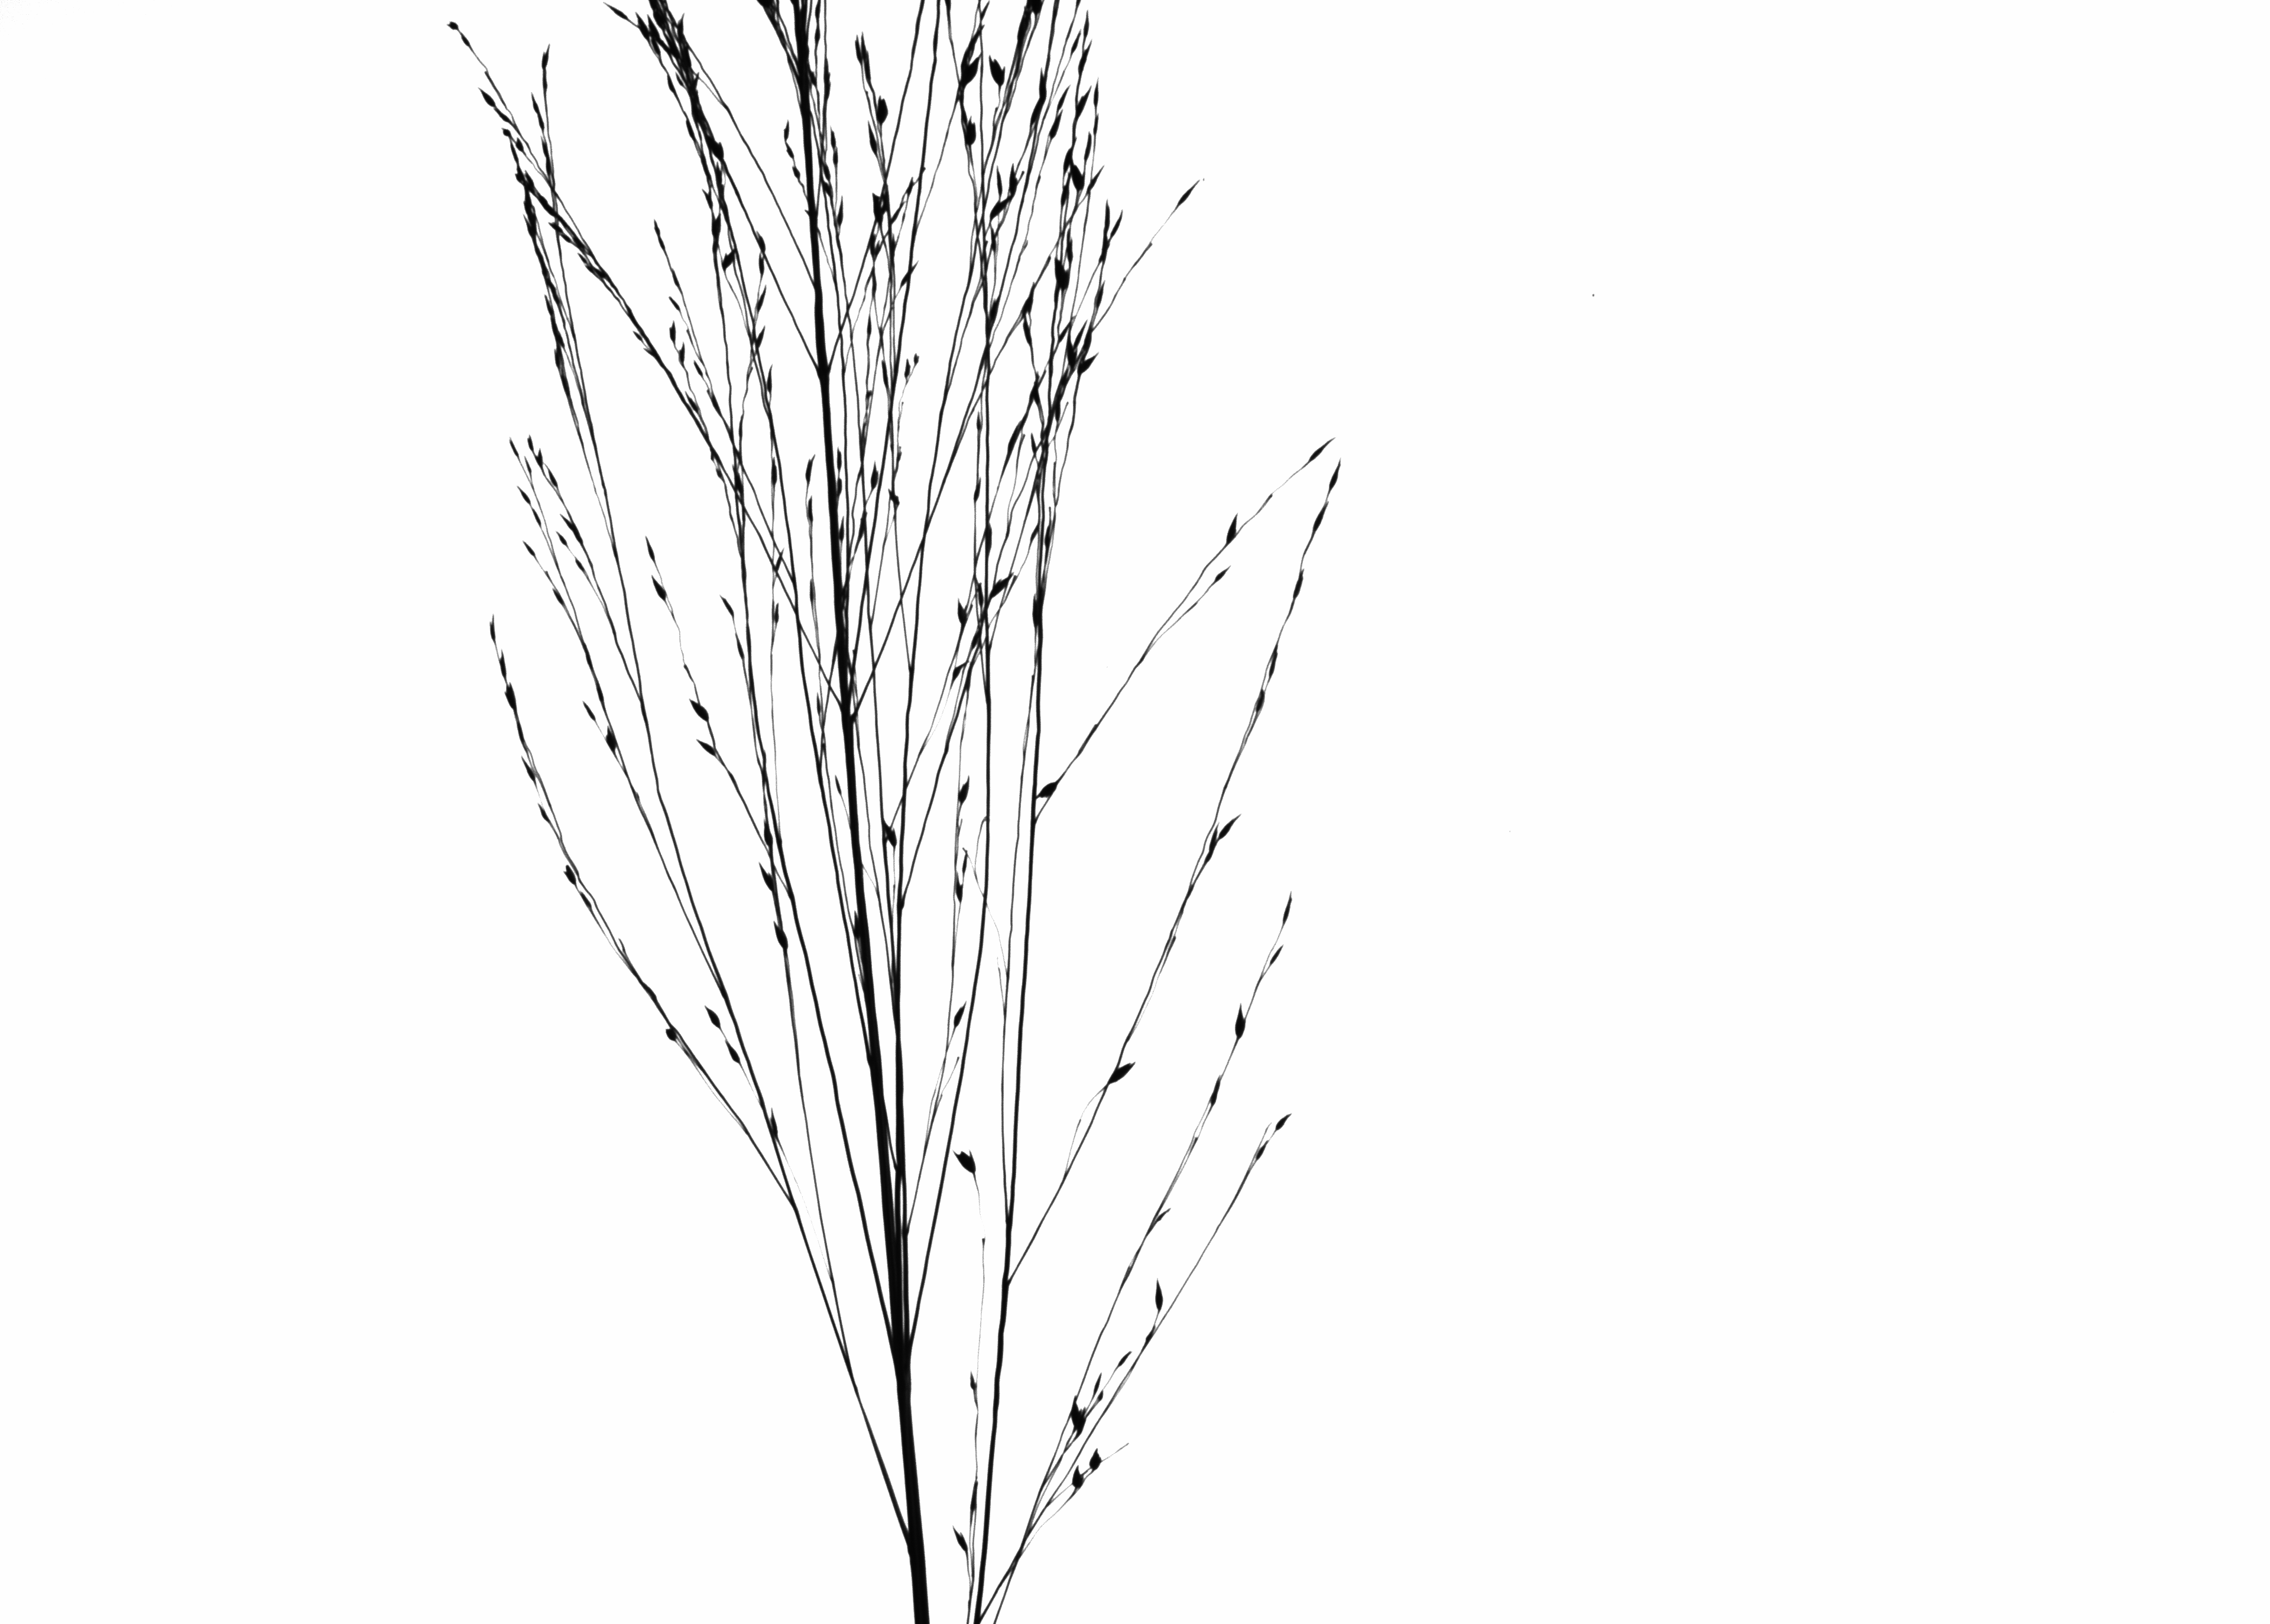seed: (1097, 1049, 1143, 1098), (1301, 432, 1336, 471), (946, 1142, 985, 1178), (1146, 1274, 1173, 1325), (948, 1520, 978, 1564), (1226, 997, 1254, 1042), (1171, 178, 1203, 216), (1305, 499, 1336, 538), (1034, 773, 1066, 810), (753, 856, 781, 896), (1220, 810, 1247, 852), (768, 916, 795, 956), (494, 682, 524, 717), (1064, 1392, 1087, 1438), (958, 1473, 983, 1515), (545, 216, 577, 248), (513, 754, 543, 787), (990, 568, 1016, 605), (877, 814, 904, 851), (1278, 884, 1298, 933), (680, 696, 716, 722), (962, 49, 985, 90), (1264, 642, 1287, 682), (645, 568, 670, 605), (983, 292, 1000, 343), (1222, 510, 1245, 548), (721, 1039, 747, 1072), (951, 997, 972, 1037), (1201, 824, 1220, 868), (577, 698, 603, 729), (978, 511, 997, 554), (758, 812, 779, 851), (693, 736, 728, 759), (531, 800, 559, 828), (700, 1002, 726, 1032), (1289, 566, 1308, 606), (1087, 163, 1108, 200), (986, 51, 1008, 88), (899, 258, 921, 292), (726, 631, 749, 664), (494, 647, 517, 680), (1115, 1343, 1138, 1376), (1076, 39, 1095, 77), (957, 772, 976, 810), (800, 494, 821, 529), (768, 548, 789, 584), (763, 1107, 784, 1142), (1326, 460, 1347, 496), (640, 531, 659, 568), (1250, 685, 1271, 719), (1076, 83, 1092, 127), (1266, 940, 1289, 970), (728, 462, 747, 497), (855, 506, 872, 545), (1029, 93, 1048, 128), (863, 118, 881, 156), (874, 90, 891, 128), (761, 360, 779, 399), (484, 610, 503, 645), (600, 2, 631, 23), (1250, 1135, 1271, 1167), (1062, 137, 1080, 174), (869, 188, 886, 225), (751, 322, 768, 359), (559, 508, 584, 534), (1206, 1070, 1224, 1107), (967, 473, 986, 506), (751, 281, 770, 315), (946, 868, 965, 902), (517, 213, 540, 241), (601, 726, 622, 756), (575, 888, 596, 917), (1066, 1462, 1087, 1492), (1087, 1364, 1104, 1399), (865, 462, 884, 494), (682, 387, 702, 418), (951, 598, 971, 629), (519, 167, 542, 193), (1078, 352, 1101, 378), (559, 861, 582, 888), (1210, 564, 1236, 587), (513, 482, 535, 510), (848, 909, 865, 942), (1048, 109, 1066, 142), (964, 111, 978, 151), (990, 195, 1013, 220), (1273, 1109, 1296, 1134), (949, 659, 971, 685), (1073, 318, 1090, 350), (1051, 257, 1069, 288), (1055, 83, 1073, 114), (633, 11, 649, 46), (571, 555, 593, 582), (1027, 429, 1043, 462), (1059, 315, 1076, 344), (800, 452, 818, 482), (505, 429, 522, 459), (717, 592, 738, 617), (886, 485, 906, 511), (1110, 207, 1125, 239), (1062, 332, 1076, 367), (538, 40, 556, 69), (477, 86, 498, 109), (661, 1025, 684, 1046), (520, 538, 540, 562), (765, 455, 781, 485), (647, 14, 663, 44), (992, 165, 1006, 199), (545, 466, 563, 492), (849, 30, 862, 67), (1094, 279, 1108, 311), (1069, 163, 1085, 192), (811, 691, 825, 722), (663, 292, 684, 313), (1027, 591, 1039, 626), (835, 193, 848, 228), (675, 9, 688, 44), (828, 772, 846, 796), (550, 585, 568, 610), (526, 424, 538, 459), (964, 1369, 981, 1394), (1022, 316, 1036, 346), (805, 576, 819, 606), (768, 601, 782, 631), (665, 316, 679, 346), (723, 248, 738, 274), (1090, 1441, 1102, 1475), (647, 218, 666, 239), (805, 67, 823, 90), (753, 227, 770, 250), (698, 186, 716, 209), (833, 517, 848, 545), (962, 847, 976, 875), (682, 118, 698, 142), (1081, 130, 1094, 162), (1037, 67, 1050, 98), (1094, 76, 1104, 112), (628, 325, 647, 344), (976, 2, 993, 23), (1025, 279, 1036, 315), (710, 211, 724, 237), (554, 529, 571, 550), (535, 445, 547, 475), (819, 158, 835, 181), (832, 448, 848, 471), (1008, 162, 1018, 195), (1081, 7, 1092, 40), (863, 313, 876, 341), (811, 25, 825, 49), (988, 225, 1000, 253), (754, 251, 768, 276), (649, 33, 663, 58), (833, 475, 848, 499), (691, 357, 705, 381), (459, 33, 478, 51), (536, 135, 552, 156), (661, 74, 677, 95), (441, 18, 462, 33), (832, 148, 846, 170), (529, 91, 543, 114), (1071, 28, 1081, 58), (1102, 199, 1111, 234), (781, 142, 798, 160), (779, 116, 791, 141), (826, 125, 839, 148), (906, 174, 916, 200), (902, 357, 913, 383), (677, 341, 688, 367), (819, 178, 833, 197), (870, 239, 883, 260), (974, 582, 985, 606), (788, 165, 804, 181), (550, 348, 564, 366), (673, 72, 688, 90), (1092, 114, 1102, 137), (974, 411, 985, 434), (513, 135, 526, 155), (498, 125, 512, 141), (812, 2, 823, 21), (575, 253, 589, 265), (913, 350, 921, 367)
